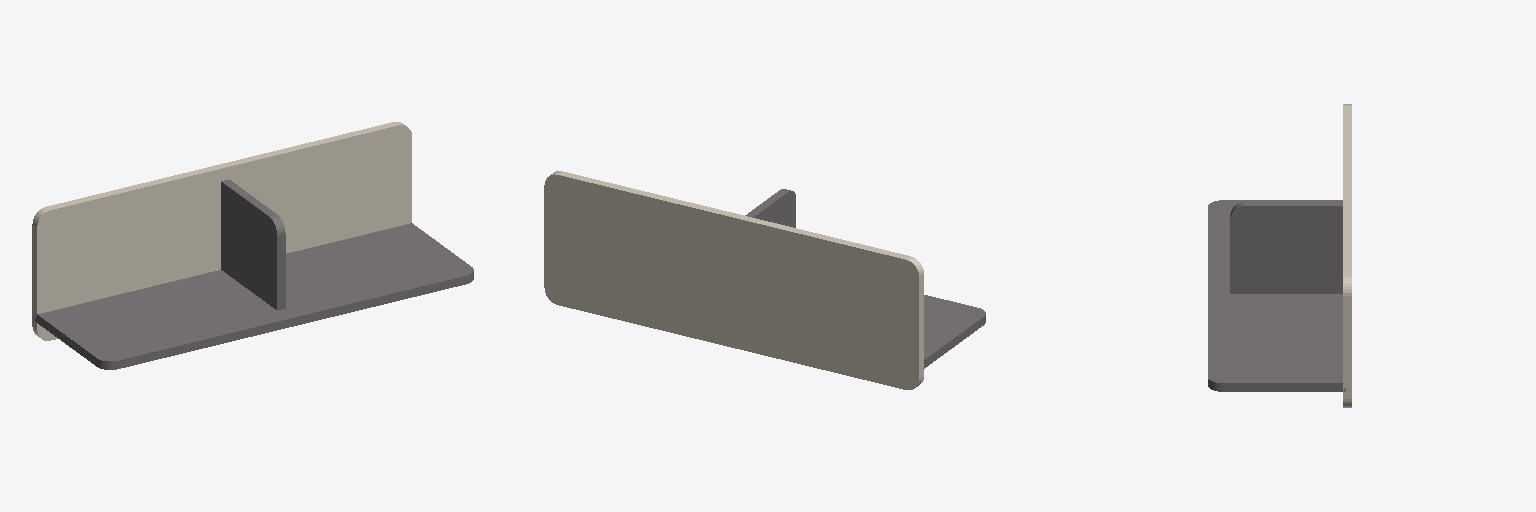
Rendered from 2pir_polka_wiszaca.obj.
The picture shows the model from 3 angles: view 1: azimuth 30°, elevation 25°; view 2: azimuth 150°, elevation 25°; view 3: azimuth 270°, elevation 25°; orthographic projection.
Visible parts, largest first — view 1: Rectangle15, Rectangle16, Rectangle17; view 2: Rectangle15, Rectangle16, Rectangle17; view 3: Rectangle16, Rectangle17, Rectangle15.
Boxes of the visible parts, box(x1,y1,x2,y2) form: Rectangle15: box(32, 122, 411, 340); Rectangle16: box(35, 223, 473, 369); Rectangle17: box(221, 179, 285, 310); Rectangle15: box(544, 171, 923, 389); Rectangle16: box(924, 295, 985, 368); Rectangle17: box(745, 189, 795, 227); Rectangle16: box(1208, 200, 1346, 391); Rectangle17: box(1230, 202, 1342, 293); Rectangle15: box(1343, 104, 1351, 407).
Size of the model in its own units: 90.3 by 30.02 by 30.16.